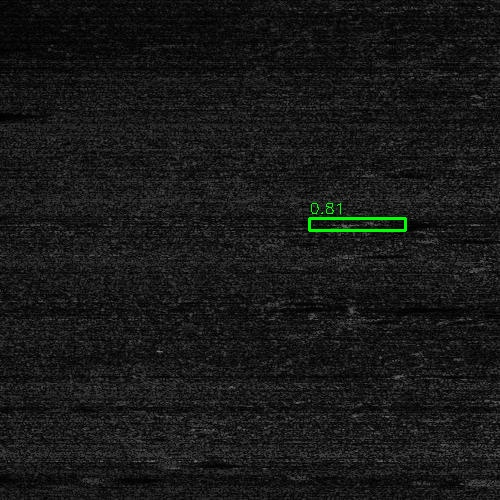rock: (343, 219, 406, 230), (338, 302, 401, 309), (83, 472, 124, 479), (153, 460, 206, 465), (468, 476, 500, 481)
shadow: (0, 106, 74, 119), (375, 219, 437, 230), (104, 472, 166, 479), (370, 302, 432, 309), (180, 460, 248, 465), (0, 471, 47, 478)
